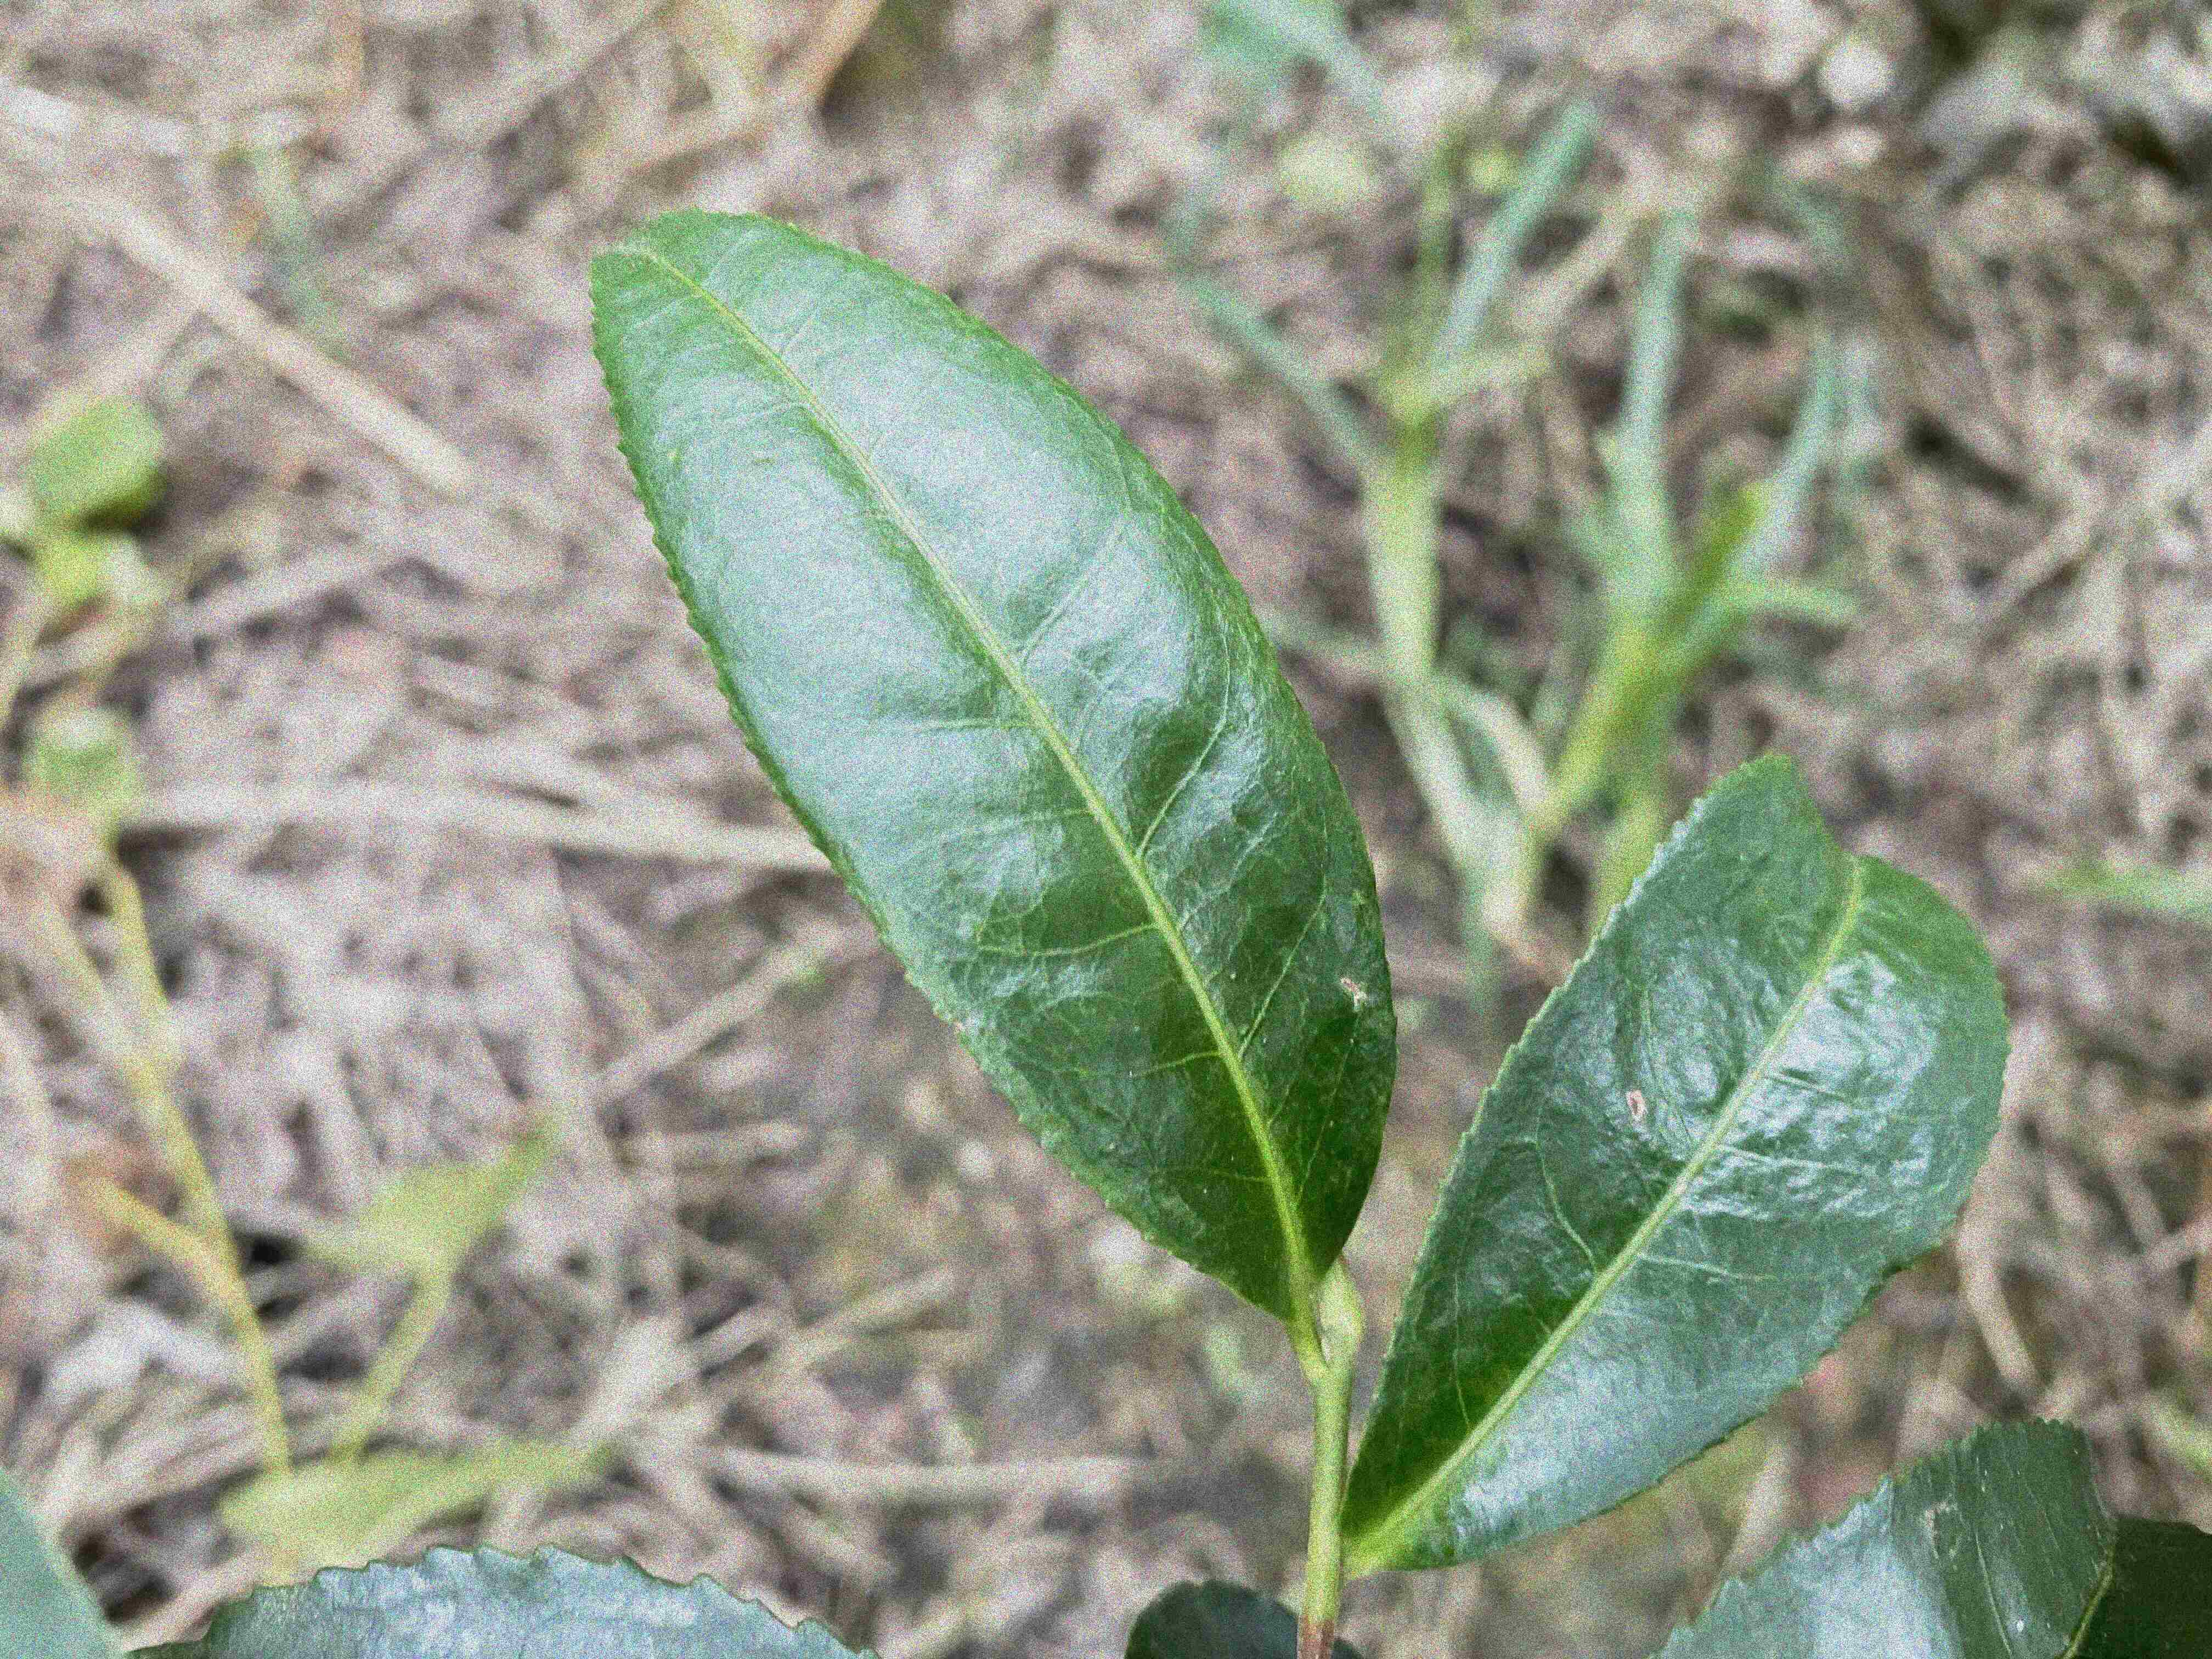tanju_low: (1343, 751, 2015, 1575)
